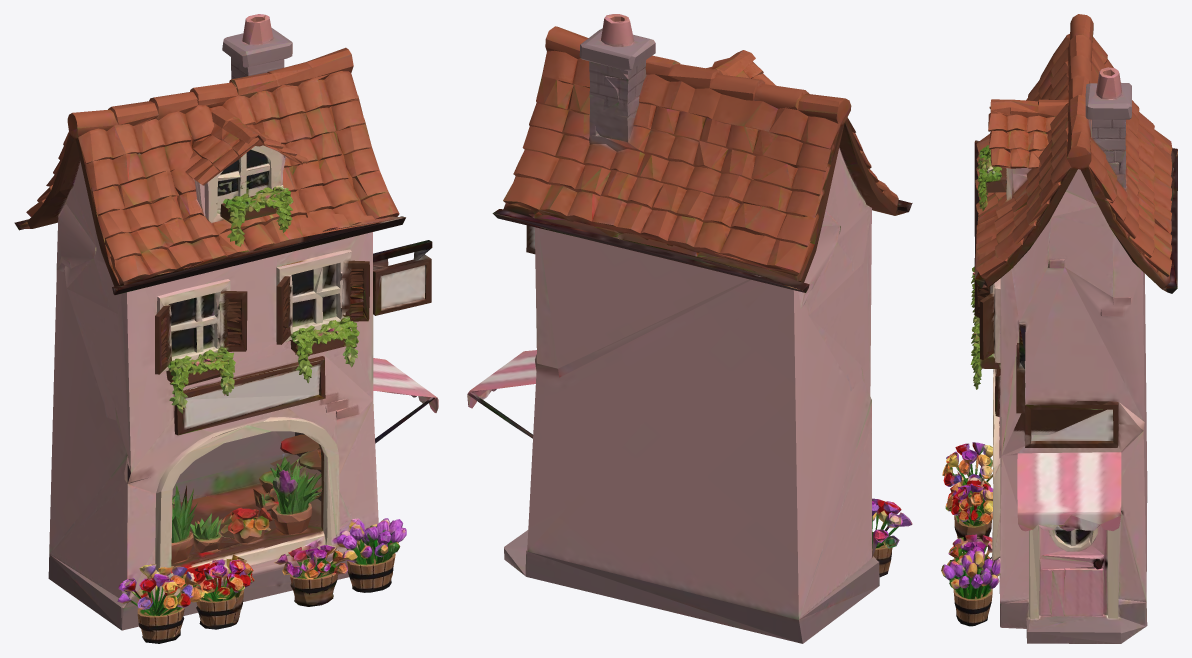
Rendered from shop_flowers.glb.
3 views of the same model, side by side, from view 1: azimuth 30°, elevation 25°; view 2: azimuth 150°, elevation 25°; view 3: azimuth 270°, elevation 25° (orthographic). The views are drawn at different scales.
Size of the model in its own units: 7.5 by 11 by 4.5.
1 material, 1 textured.
